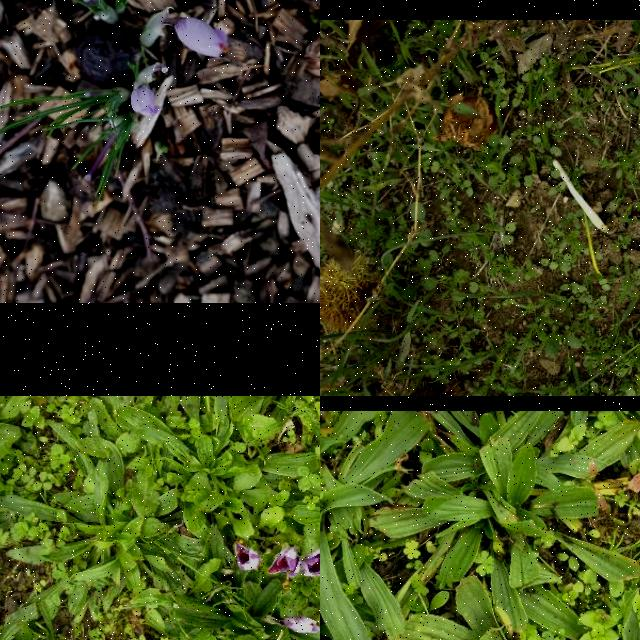flower: (177, 18, 229, 58), (268, 546, 302, 576), (132, 88, 160, 118), (236, 541, 260, 571), (279, 616, 320, 633), (301, 550, 320, 578)
